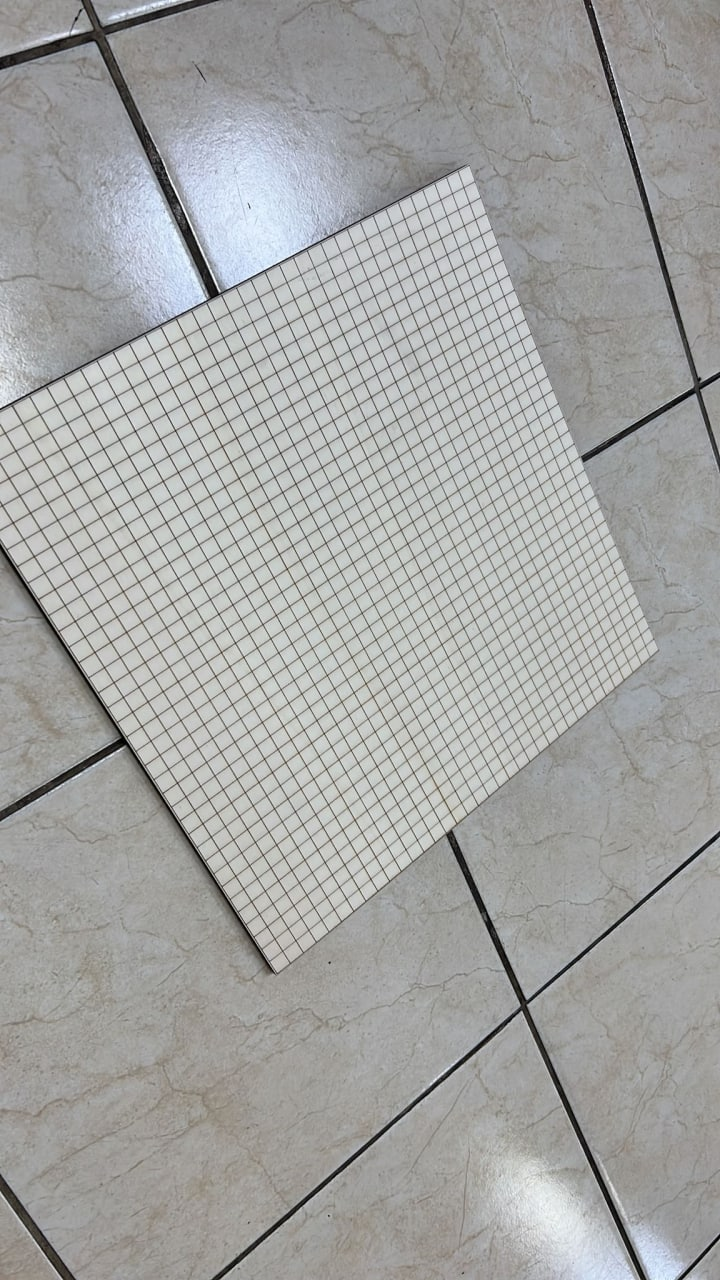grid: (1, 150, 667, 982)
